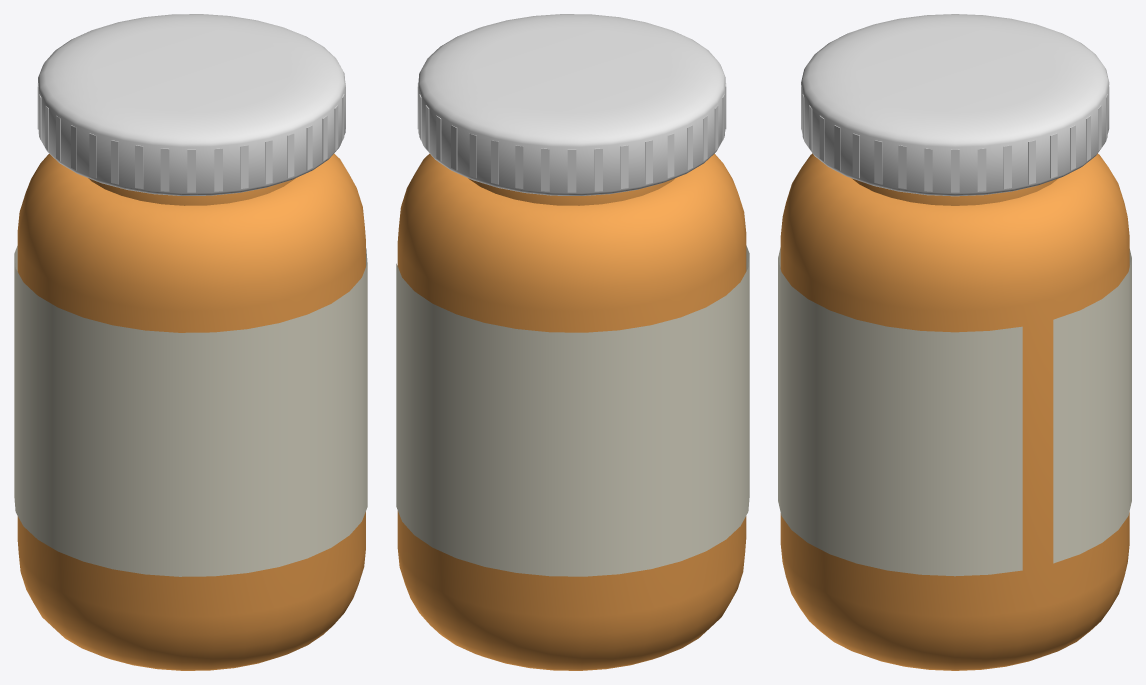
File: PillBottle_PuzzleItem.fbx
3 views of the same model, side by side, from view 1: azimuth 30°, elevation 25°; view 2: azimuth 150°, elevation 25°; view 3: azimuth 270°, elevation 25° (orthographic).
Visible parts, largest first — view 1: Cylinder.004, Cylinder, Cylinder.002; view 2: Cylinder.004, Cylinder, Cylinder.002; view 3: Cylinder, Cylinder.004, Cylinder.002.
Part boxes in pixels (bbox=[...]): Cylinder.004: bbox=[14, 246, 367, 576]; Cylinder: bbox=[17, 153, 365, 670]; Cylinder.002: bbox=[37, 14, 345, 195]; Cylinder.004: bbox=[396, 245, 749, 576]; Cylinder: bbox=[397, 153, 746, 670]; Cylinder.002: bbox=[417, 14, 726, 195]; Cylinder: bbox=[780, 153, 1129, 670]; Cylinder.004: bbox=[778, 247, 1131, 576]; Cylinder.002: bbox=[801, 14, 1109, 196].
Size of the model in its own units: 138 by 235 by 138.
